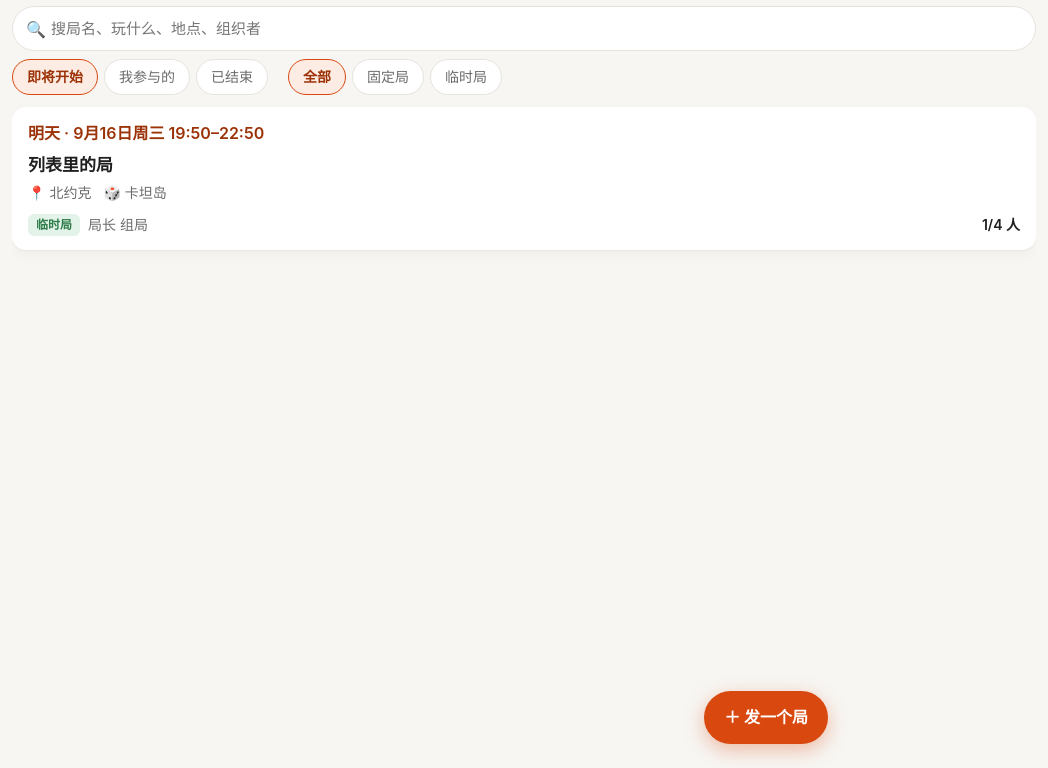
Scenario: HomePage search › typing searches after a pause, results replace the tabs, clearing restores the list
Expected: the text "列表里的局" is shown, [28,155,113,175]
Expected: the tab "即将开始" is shown, [12,59,98,95]
Type "卡坦" into the search field named "搜索局" at (524, 29), box [12,6,1036,51]
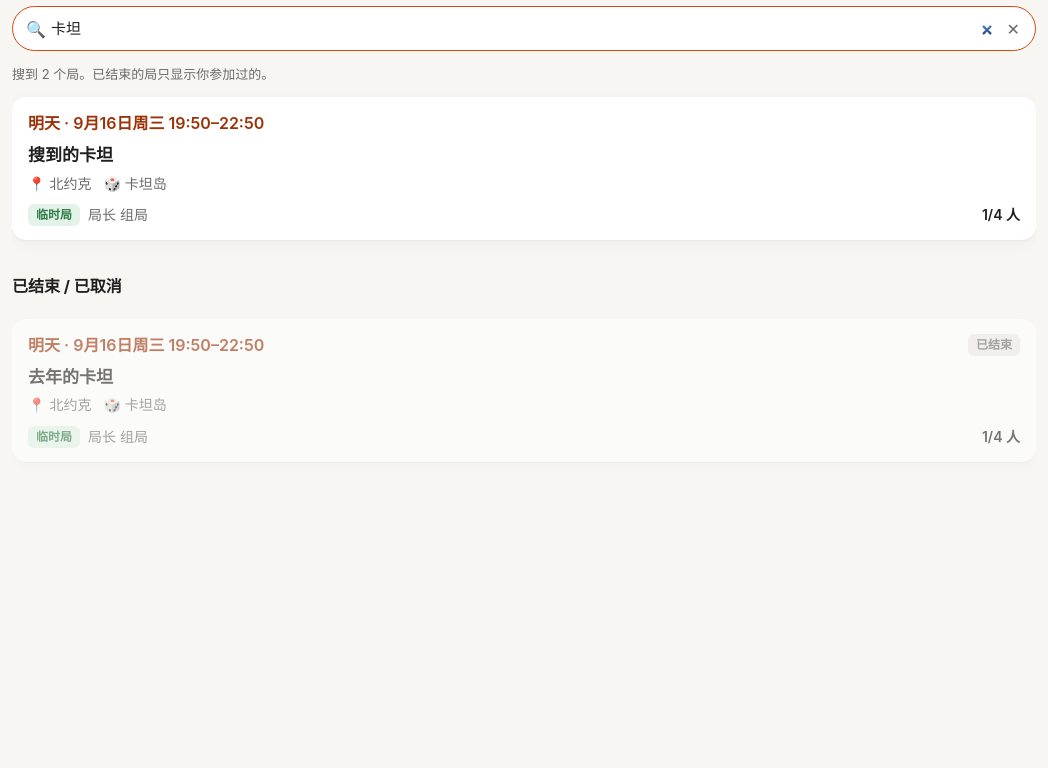
Result: the text "搜到的卡坦" is shown at [28,145,113,165]
Result: the tab "即将开始" is gone
Result: the text "搜到 2 个局。已结束的局只显示你参加过的。" is shown at [12,66,274,82]
Click the button named "清除搜索" at (1013, 29), box [997,10,1030,47]
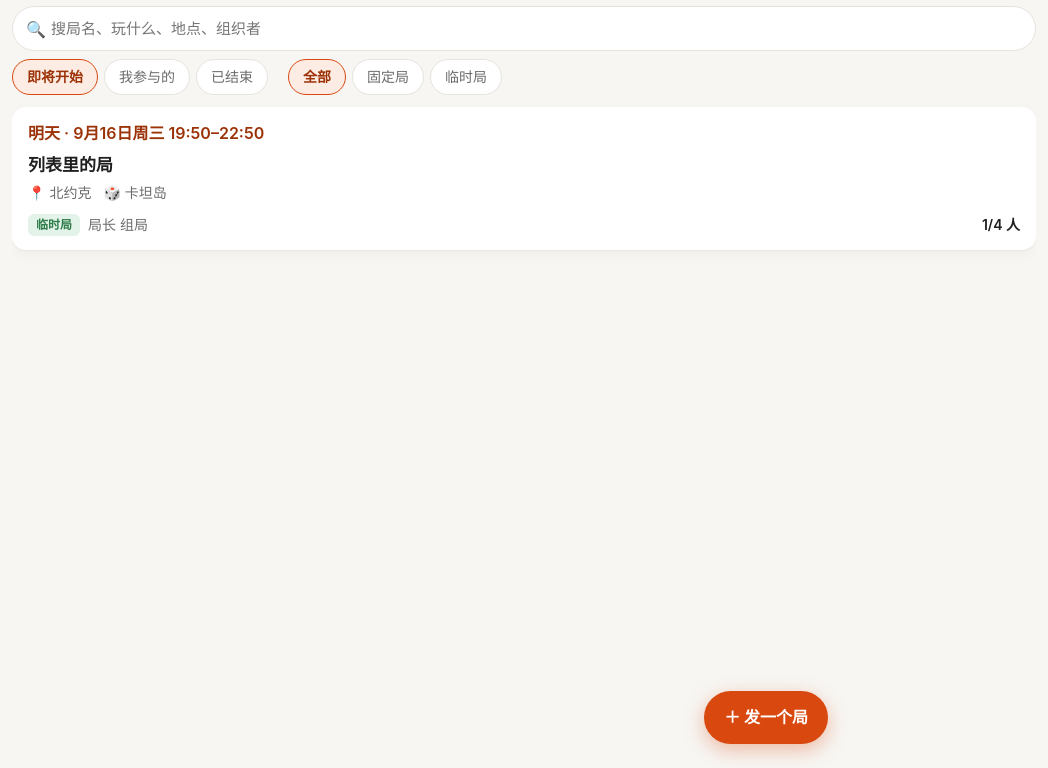
Result: the tab "即将开始" is shown at [12,59,98,95]
Result: the text "列表里的局" is shown at [28,155,113,175]
